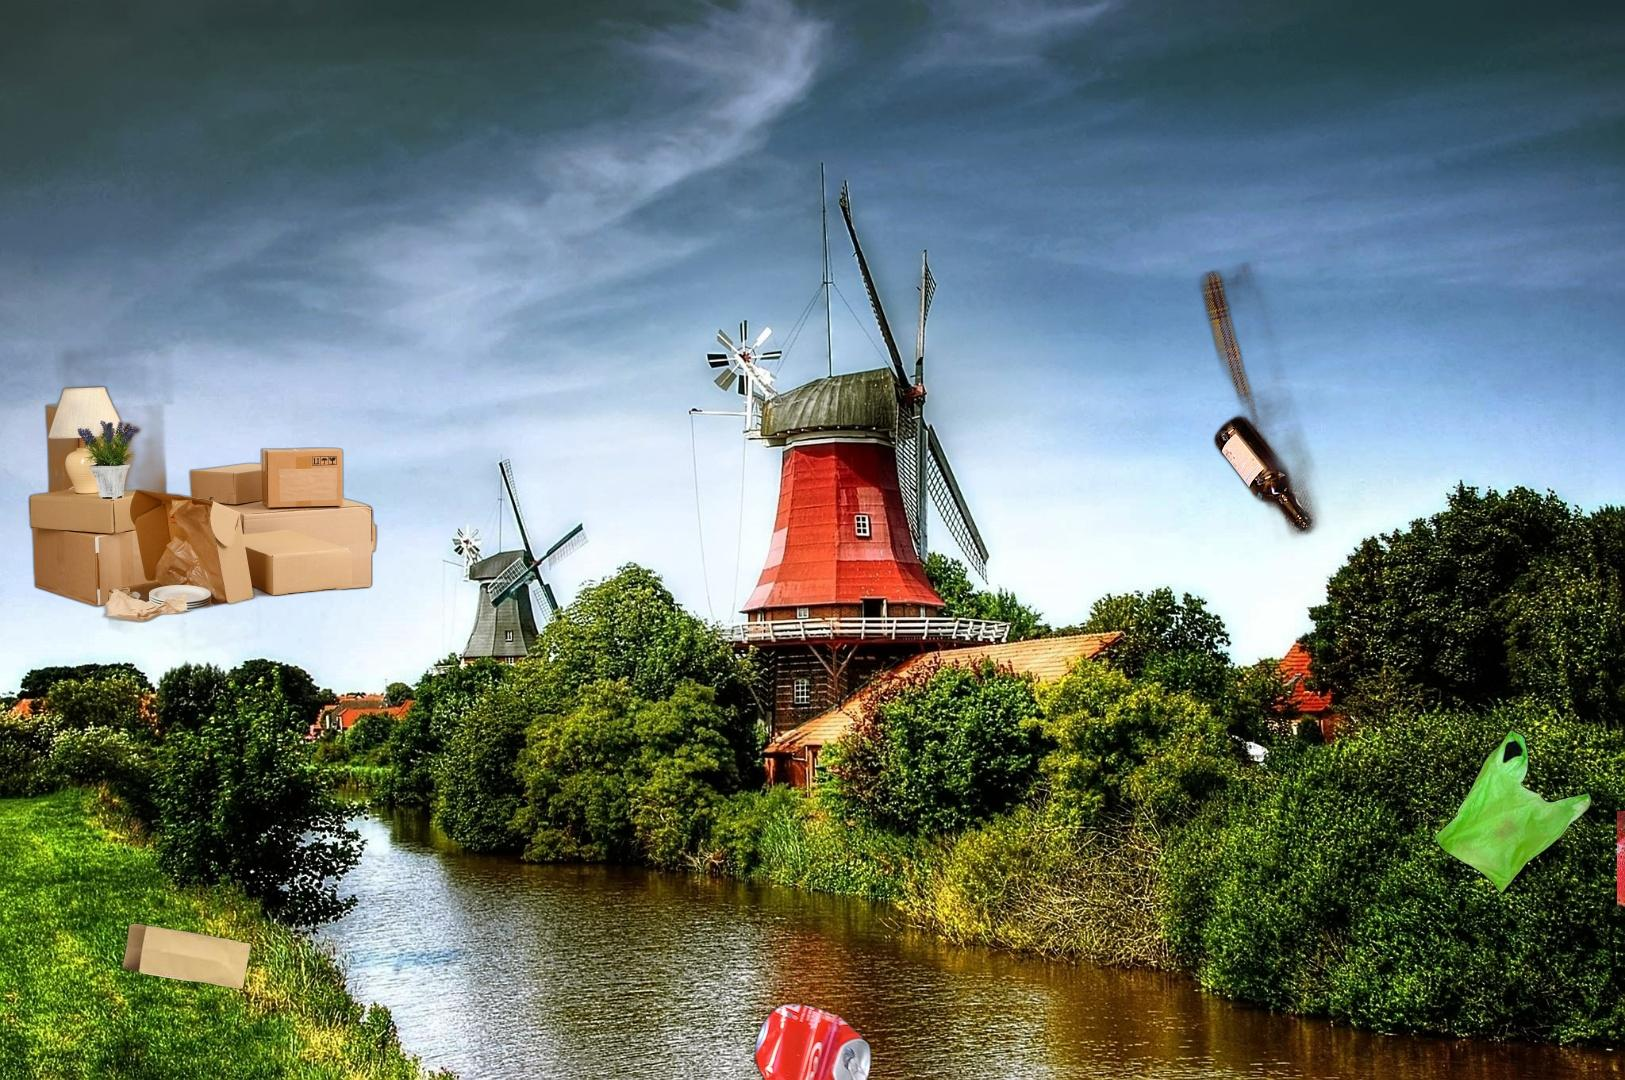biological: (1617, 811, 1625, 1005)
glass: (1084, 108, 1596, 618)
metal-cans: (501, 953, 1014, 1080)
paper-bag: (119, 920, 256, 992)
plastic-bag: (1431, 727, 1595, 896)
plastic-bottles: (6, 973, 281, 1080)
trashbox-cardboard: (27, 340, 381, 656)
